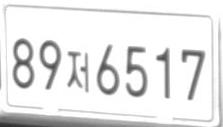1: (154, 47, 177, 97)
5: (125, 45, 148, 97)
6: (96, 43, 120, 95)
7: (180, 49, 206, 100)
8: (12, 37, 34, 88)
9: (39, 39, 61, 90)
저: (67, 51, 88, 92)
